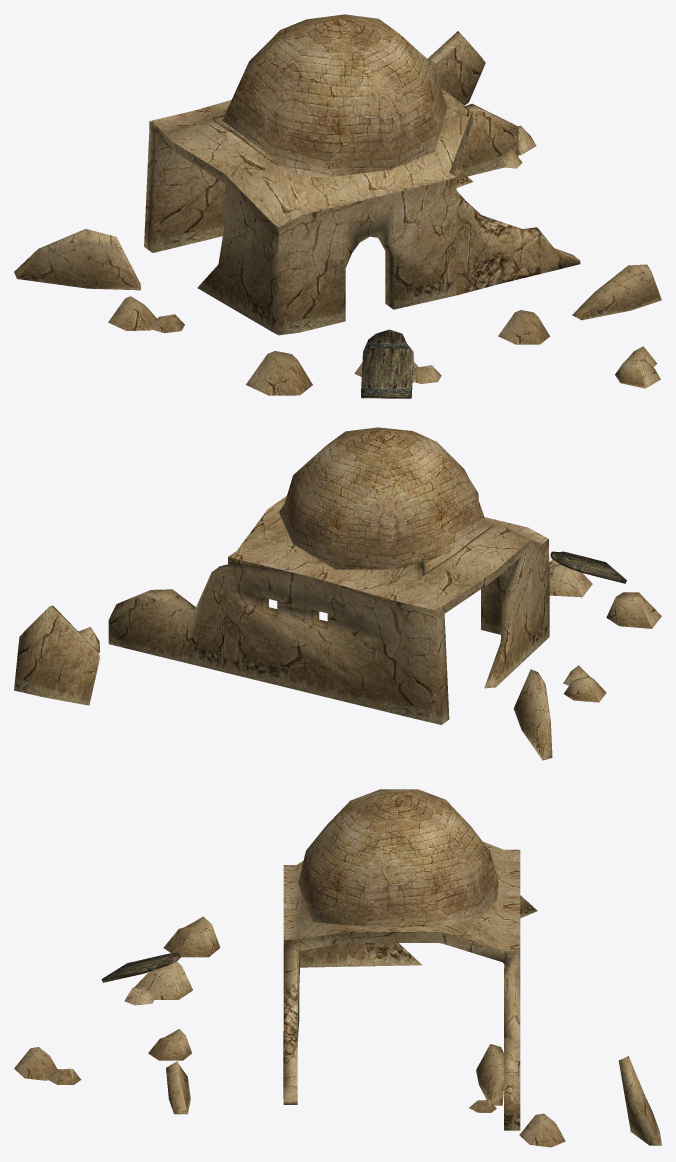
The model's file is w_cd_buddhist01_01.glb.
3 renders of one model, top to bottom at view 1: azimuth 30°, elevation 25°; view 2: azimuth 150°, elevation 25°; view 3: azimuth 270°, elevation 25°, orthographic. The views are drawn at different scales.
Visible parts, largest first — view 1: w_cd_Buddhist01_02, w_cd_Buddhist01_03, w_cd_Buddhist01_01, w_cd_Buddhist01_04; view 2: w_cd_Buddhist01_02, w_cd_Buddhist01_03, w_cd_Buddhist01_01, w_cd_Buddhist01_04; view 3: w_cd_Buddhist01_03, w_cd_Buddhist01_02, w_cd_Buddhist01_01, w_cd_Buddhist01_04.
Boxes of the visible parts, bbox=[...] form: w_cd_Buddhist01_02: bbox=[14, 31, 661, 395]; w_cd_Buddhist01_03: bbox=[222, 14, 447, 177]; w_cd_Buddhist01_01: bbox=[150, 88, 471, 227]; w_cd_Buddhist01_04: bbox=[361, 329, 413, 398]; w_cd_Buddhist01_02: bbox=[14, 480, 661, 760]; w_cd_Buddhist01_03: bbox=[279, 427, 492, 569]; w_cd_Buddhist01_01: bbox=[228, 496, 548, 610]; w_cd_Buddhist01_04: bbox=[550, 551, 626, 583]; w_cd_Buddhist01_03: bbox=[298, 789, 498, 927]; w_cd_Buddhist01_02: bbox=[14, 895, 661, 1147]; w_cd_Buddhist01_01: bbox=[283, 842, 520, 951]; w_cd_Buddhist01_04: bbox=[101, 952, 504, 982].
Bounding box in the file's own units: 30.88 × 13.86 × 35.13.
Materials: 4 (4 with a texture image).
